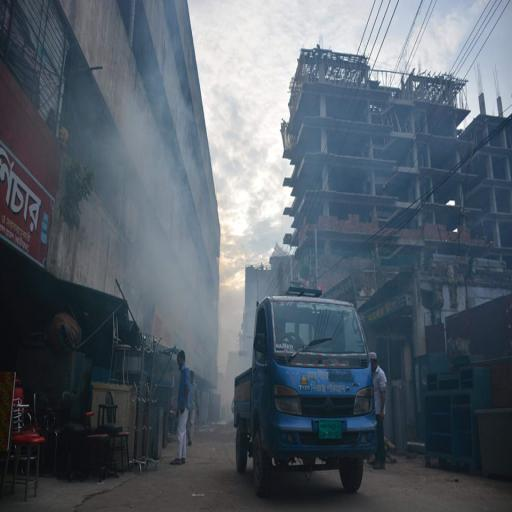pickup: (234, 295, 378, 495)
